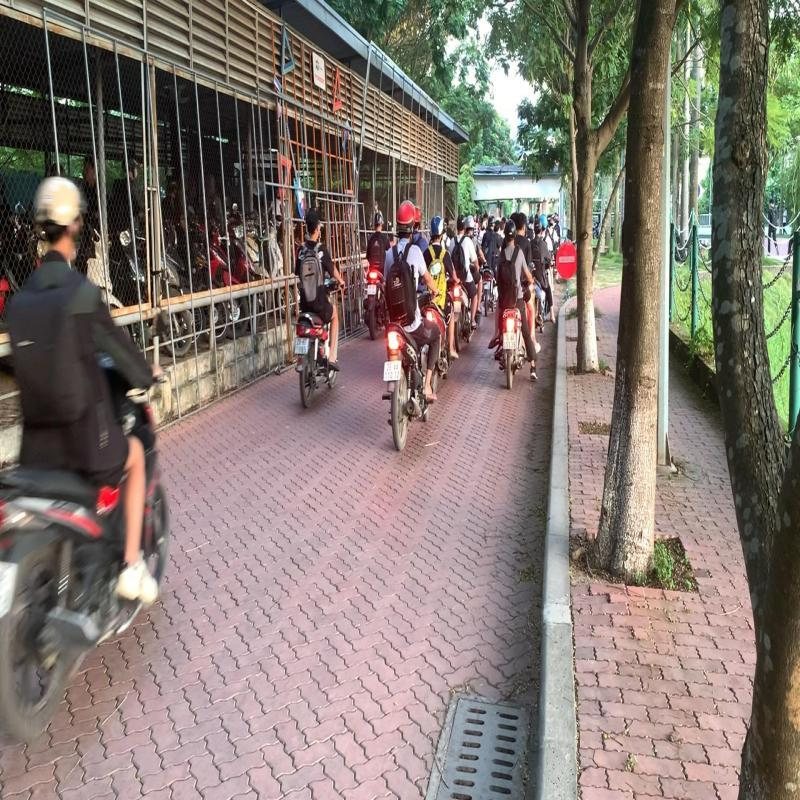nohelmet: (304, 208, 322, 239)
